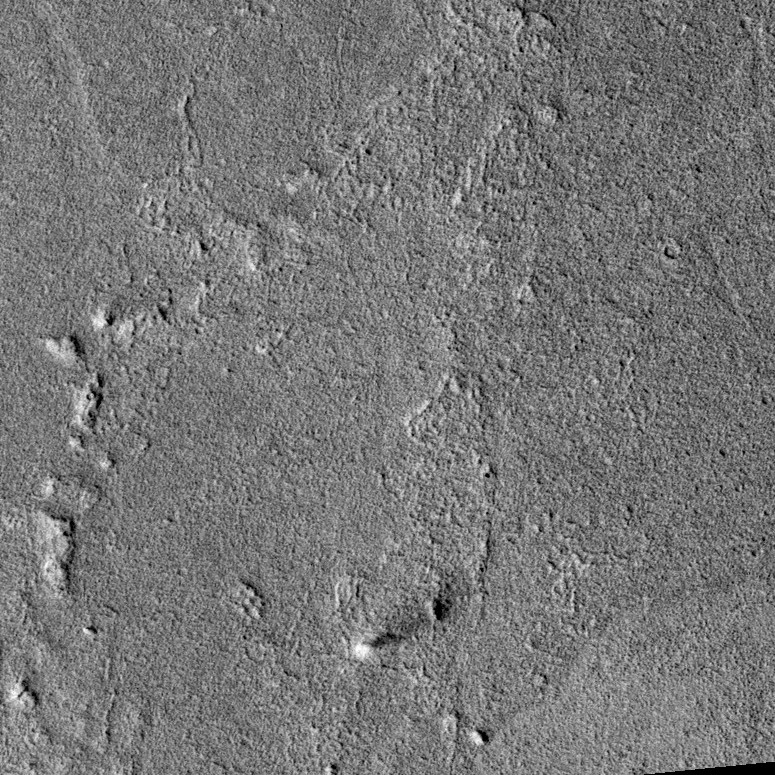dust_devil: (351, 627, 409, 665)
